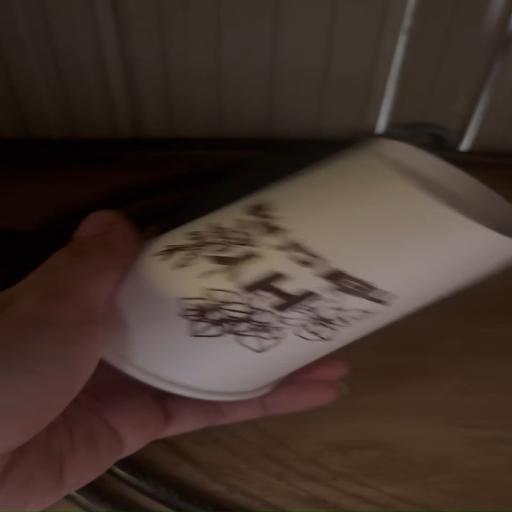ly_giay: (105, 140, 511, 400)
